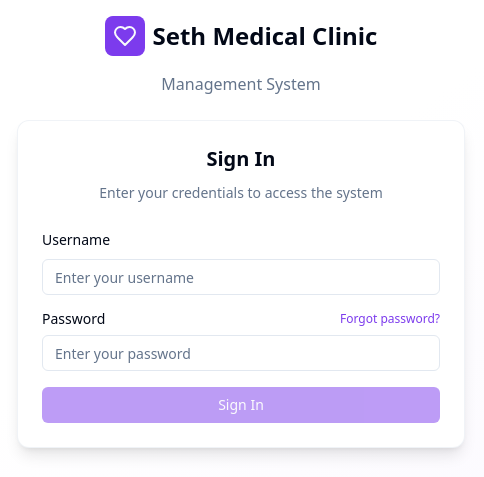
Login Page › enables sign in button when fields are filled
In the field with placeholder "Enter your username": (241, 277) top-left (42, 259), bottom-right (440, 295), type "admin"
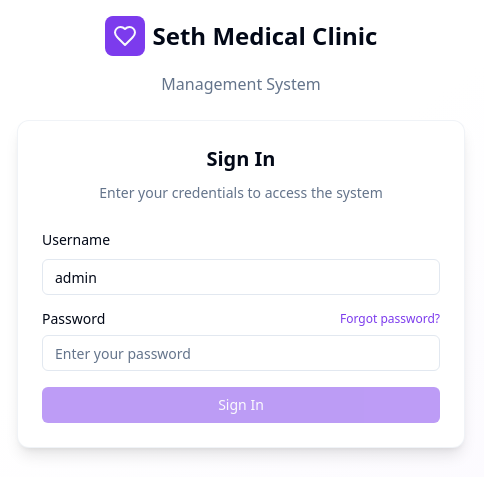
In the password field with placeholder "Enter your password": (241, 353) top-left (42, 335), bottom-right (440, 371), type "admin123"
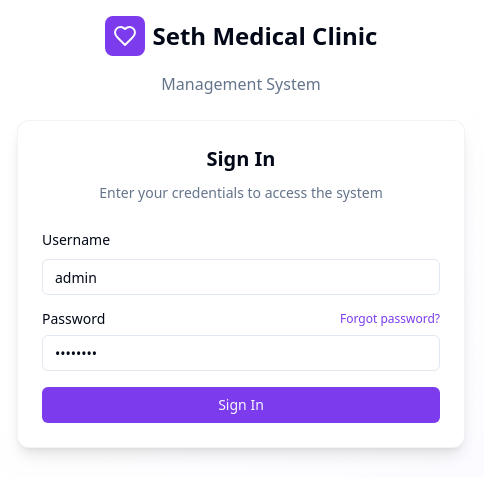
Expected: the button "Sign In" is enabled, top-left (42, 387), bottom-right (440, 423)
